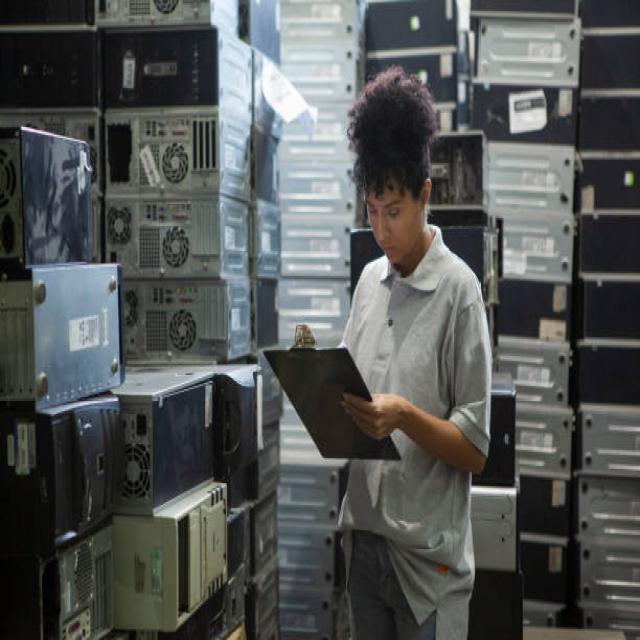metal: (13, 2, 284, 630)
plastic: (579, 100, 640, 402)
